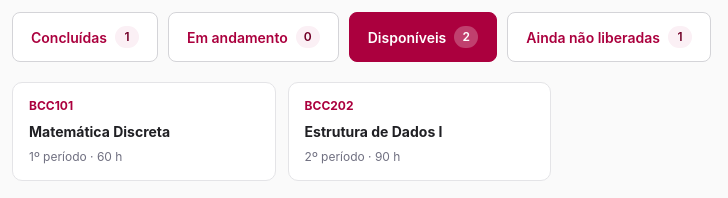
começa pelas disponíveis e filtra ao trocar de categoria
expect the number of list items is 2: met, box [12,82,276,181]; [288,82,551,181]
Click the button "Concluídas 1": point(85, 37) [12,12,158,62]
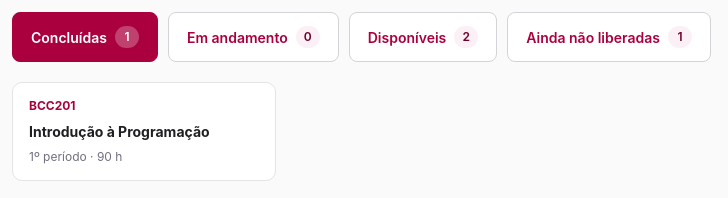
expect the text "Introdução à Programação" is shown: met, box [29,121,210,142]
expect the button "Matemática Discreta" is gone: met
